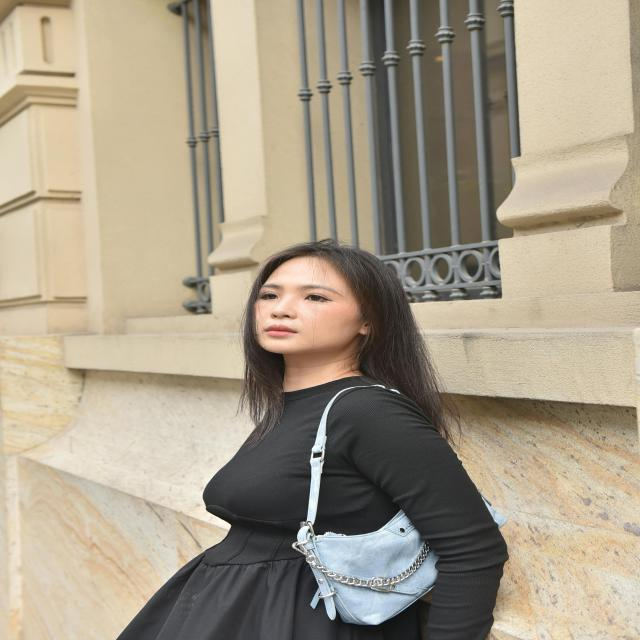bolsa: (288, 382, 504, 629)
